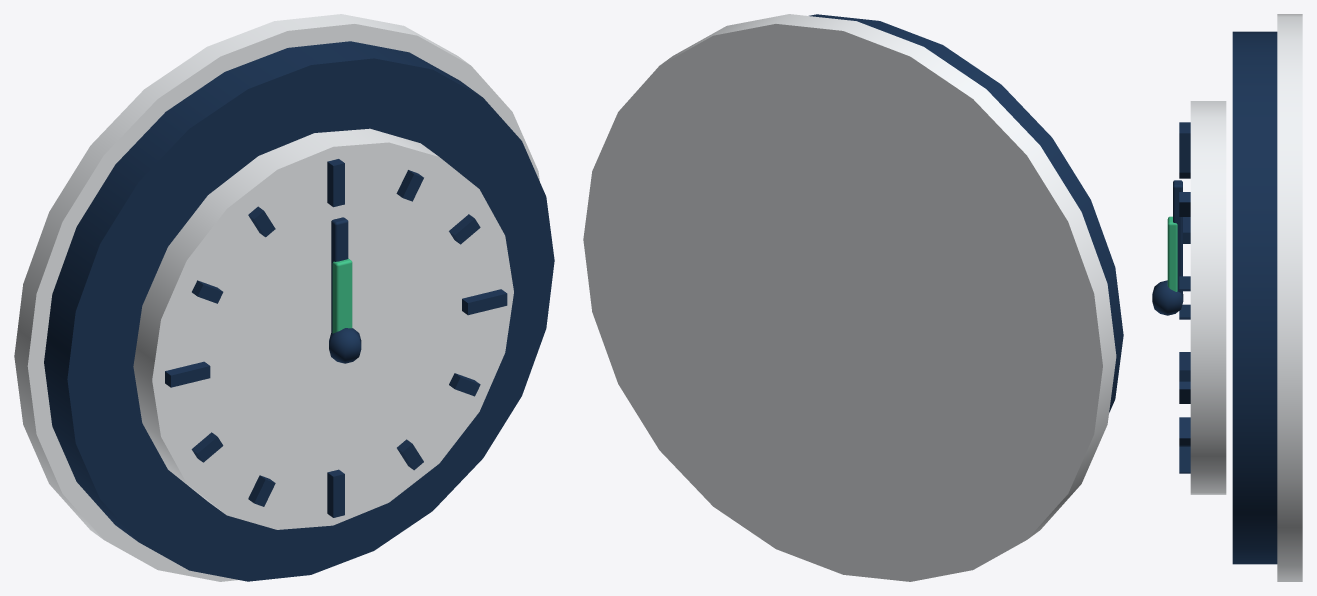
Rendered from insignia_reloj.glb.
3 views of the same model, side by side, from view 1: azimuth 30°, elevation 25°; view 2: azimuth 150°, elevation 25°; view 3: azimuth 270°, elevation 25° (orthographic). The views are drawn at different scales.
Size of the model in its own units: 2.24 by 2.24 by 0.5906.
